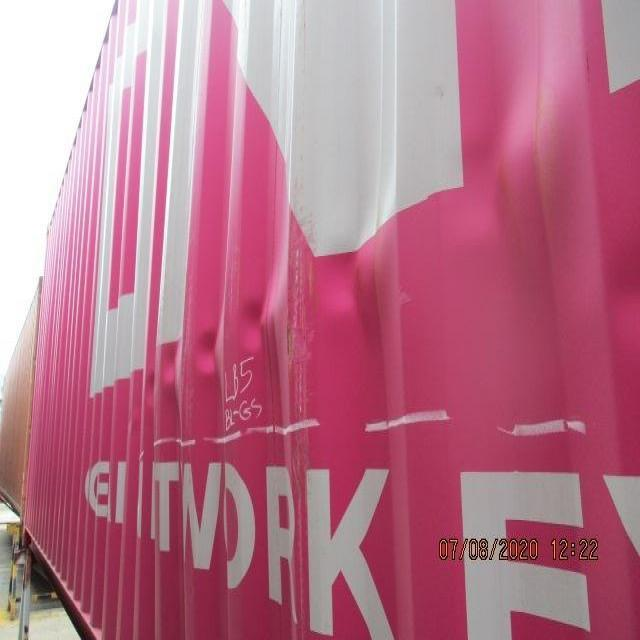Dent: (140, 55, 614, 444)
